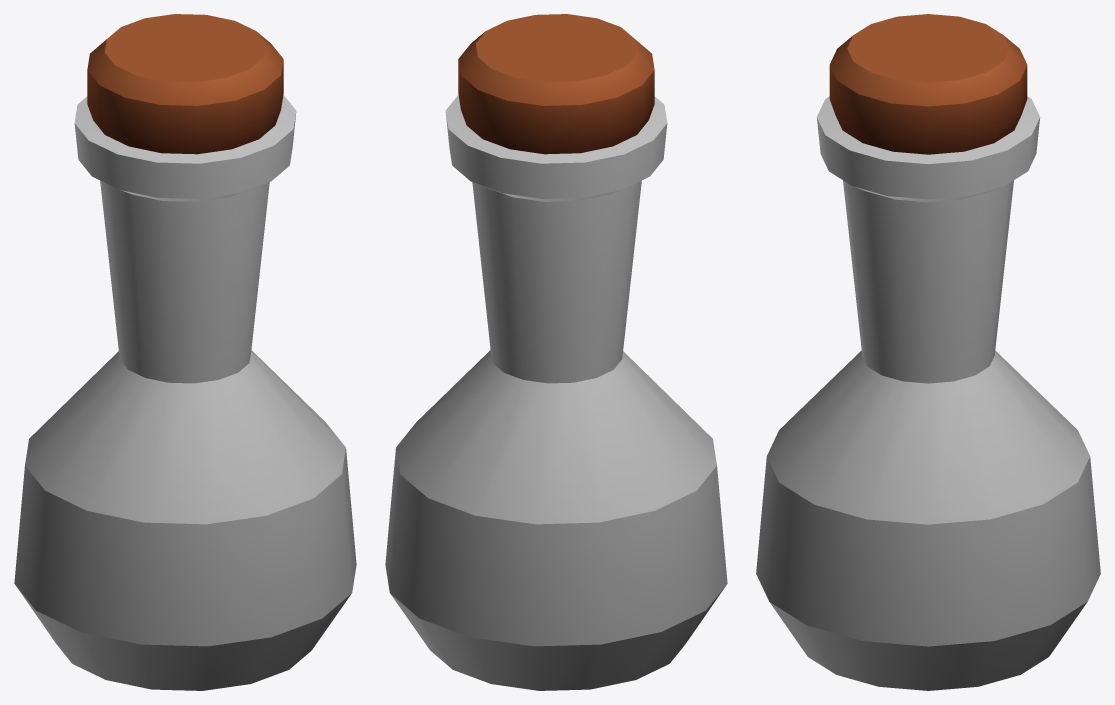
Rendered from Posion-5.fbx.
3 views of the same model, side by side, from view 1: azimuth 30°, elevation 25°; view 2: azimuth 150°, elevation 25°; view 3: azimuth 270°, elevation 25° (orthographic).
Parts seen in each view (by area): view 1: Posion-5; view 2: Posion-5; view 3: Posion-5.
Part boxes in pixels (x1,y1,x2,y2): Posion-5: [14, 14, 356, 690]; Posion-5: [385, 14, 727, 690]; Posion-5: [756, 14, 1100, 690].
Size of the model in its own units: 42.56 by 80.01 by 42.56.
